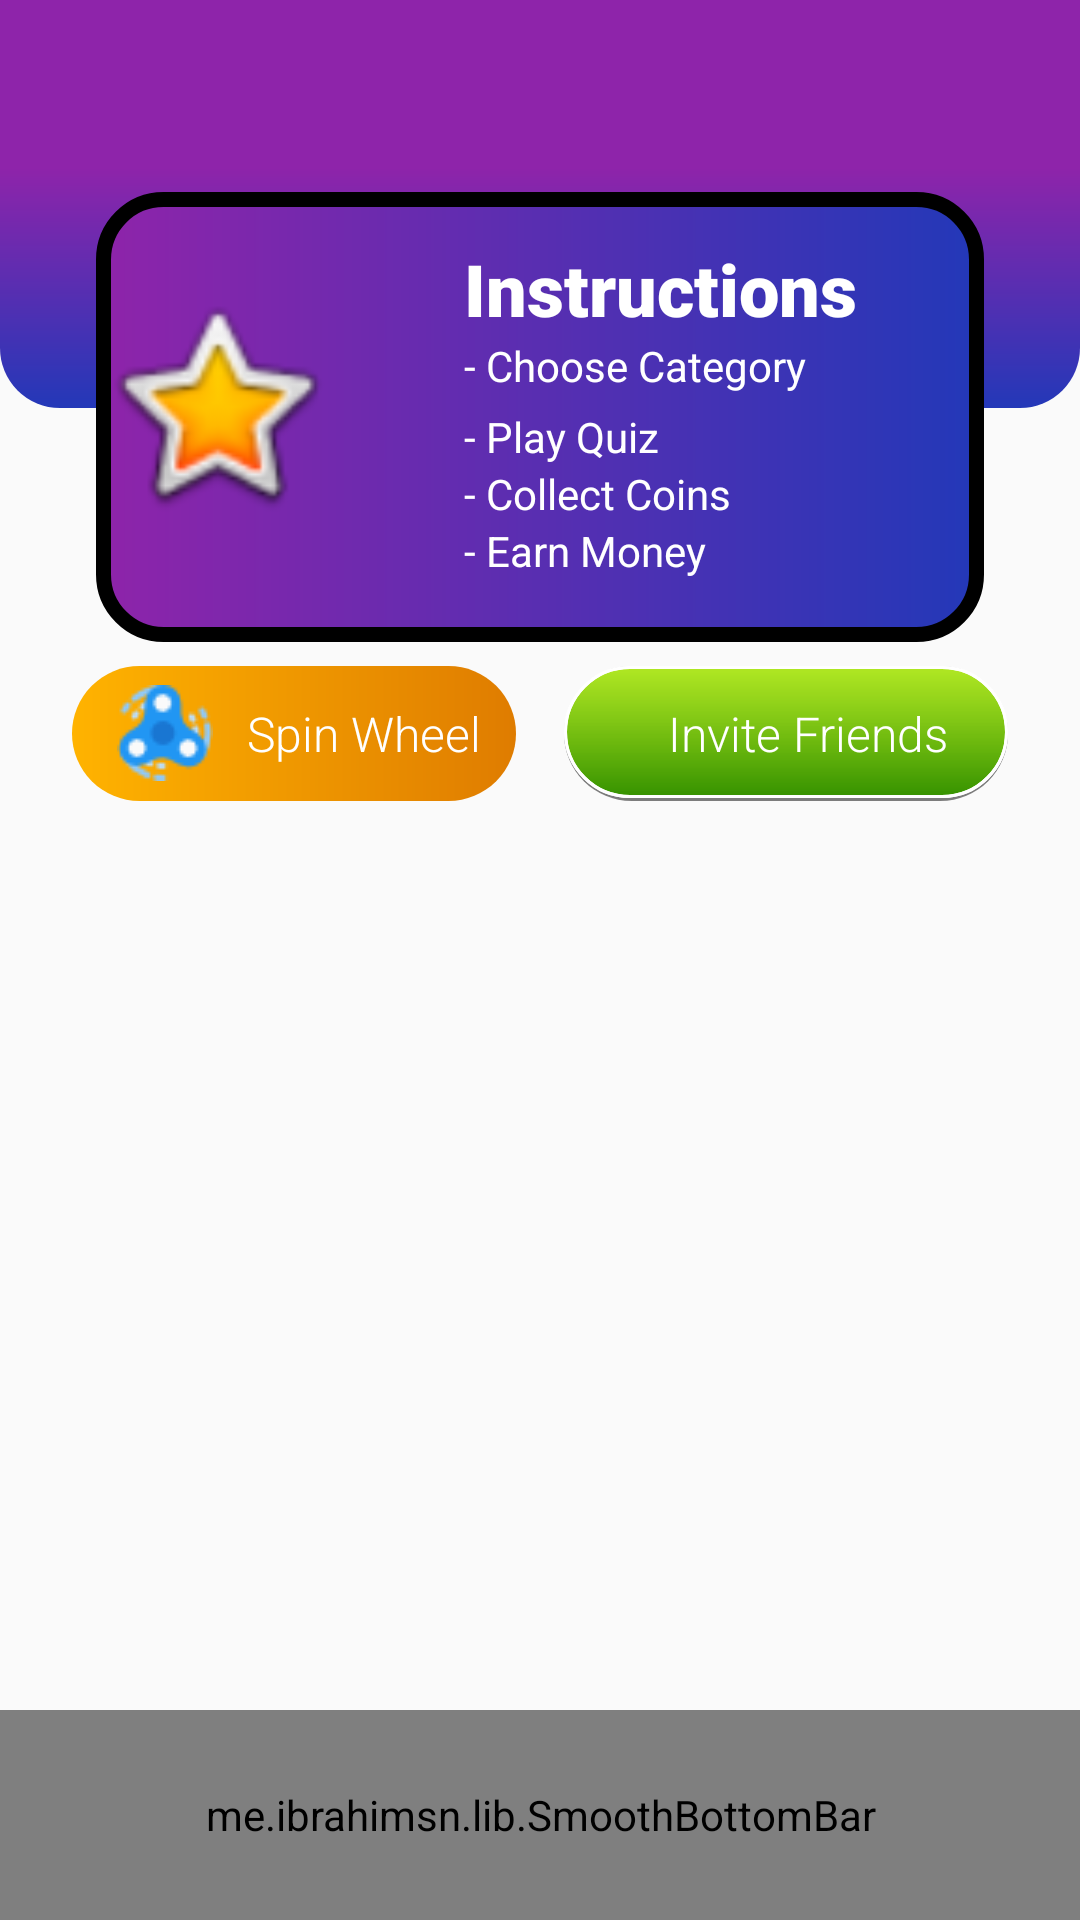

Locate icon controls on the screen. Image size 1080x1920, boxes as {"left": x1, "top": y1, "right": x2, "bottom": y2}.
star on: {"left": 118, "top": 310, "right": 318, "bottom": 504}
